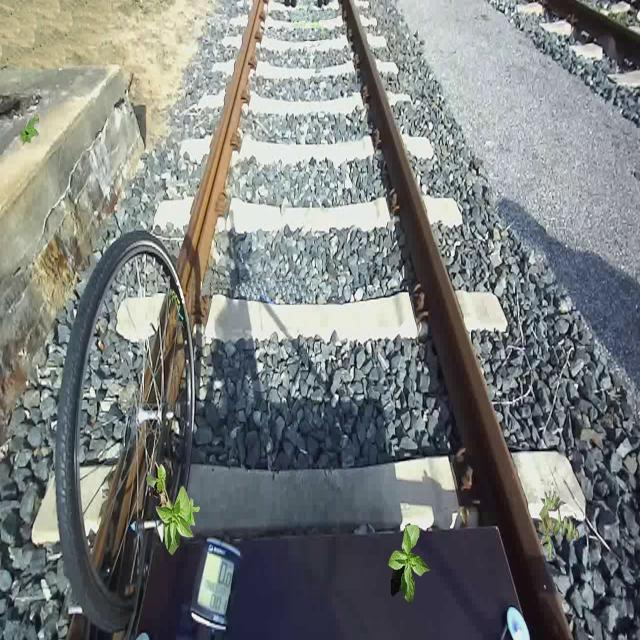Plant: (146, 461, 194, 556), (389, 525, 431, 605), (538, 490, 580, 562), (20, 114, 40, 146), (183, 498, 200, 530)
